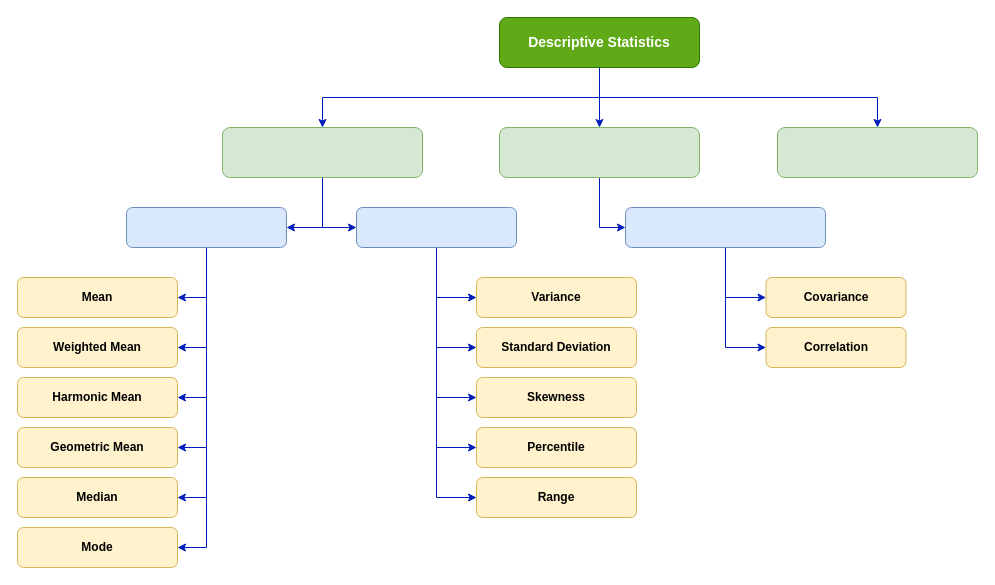
The diagram is 995 pixels wide and 585 high, and some of its shapes have lost their labels. Each missing label, with the box of its shape:
Bivariate Analysis: (498, 126, 700, 178)
Central Tendency: (126, 206, 286, 248)
Correlation/Joint Variability: (624, 206, 826, 248)
Multivariate Analysis: (776, 126, 978, 178)
Univariate Analysis: (222, 126, 422, 178)
Variability: (356, 206, 516, 248)
